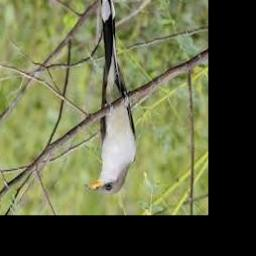Cuckoo: (84, 0, 137, 194)
